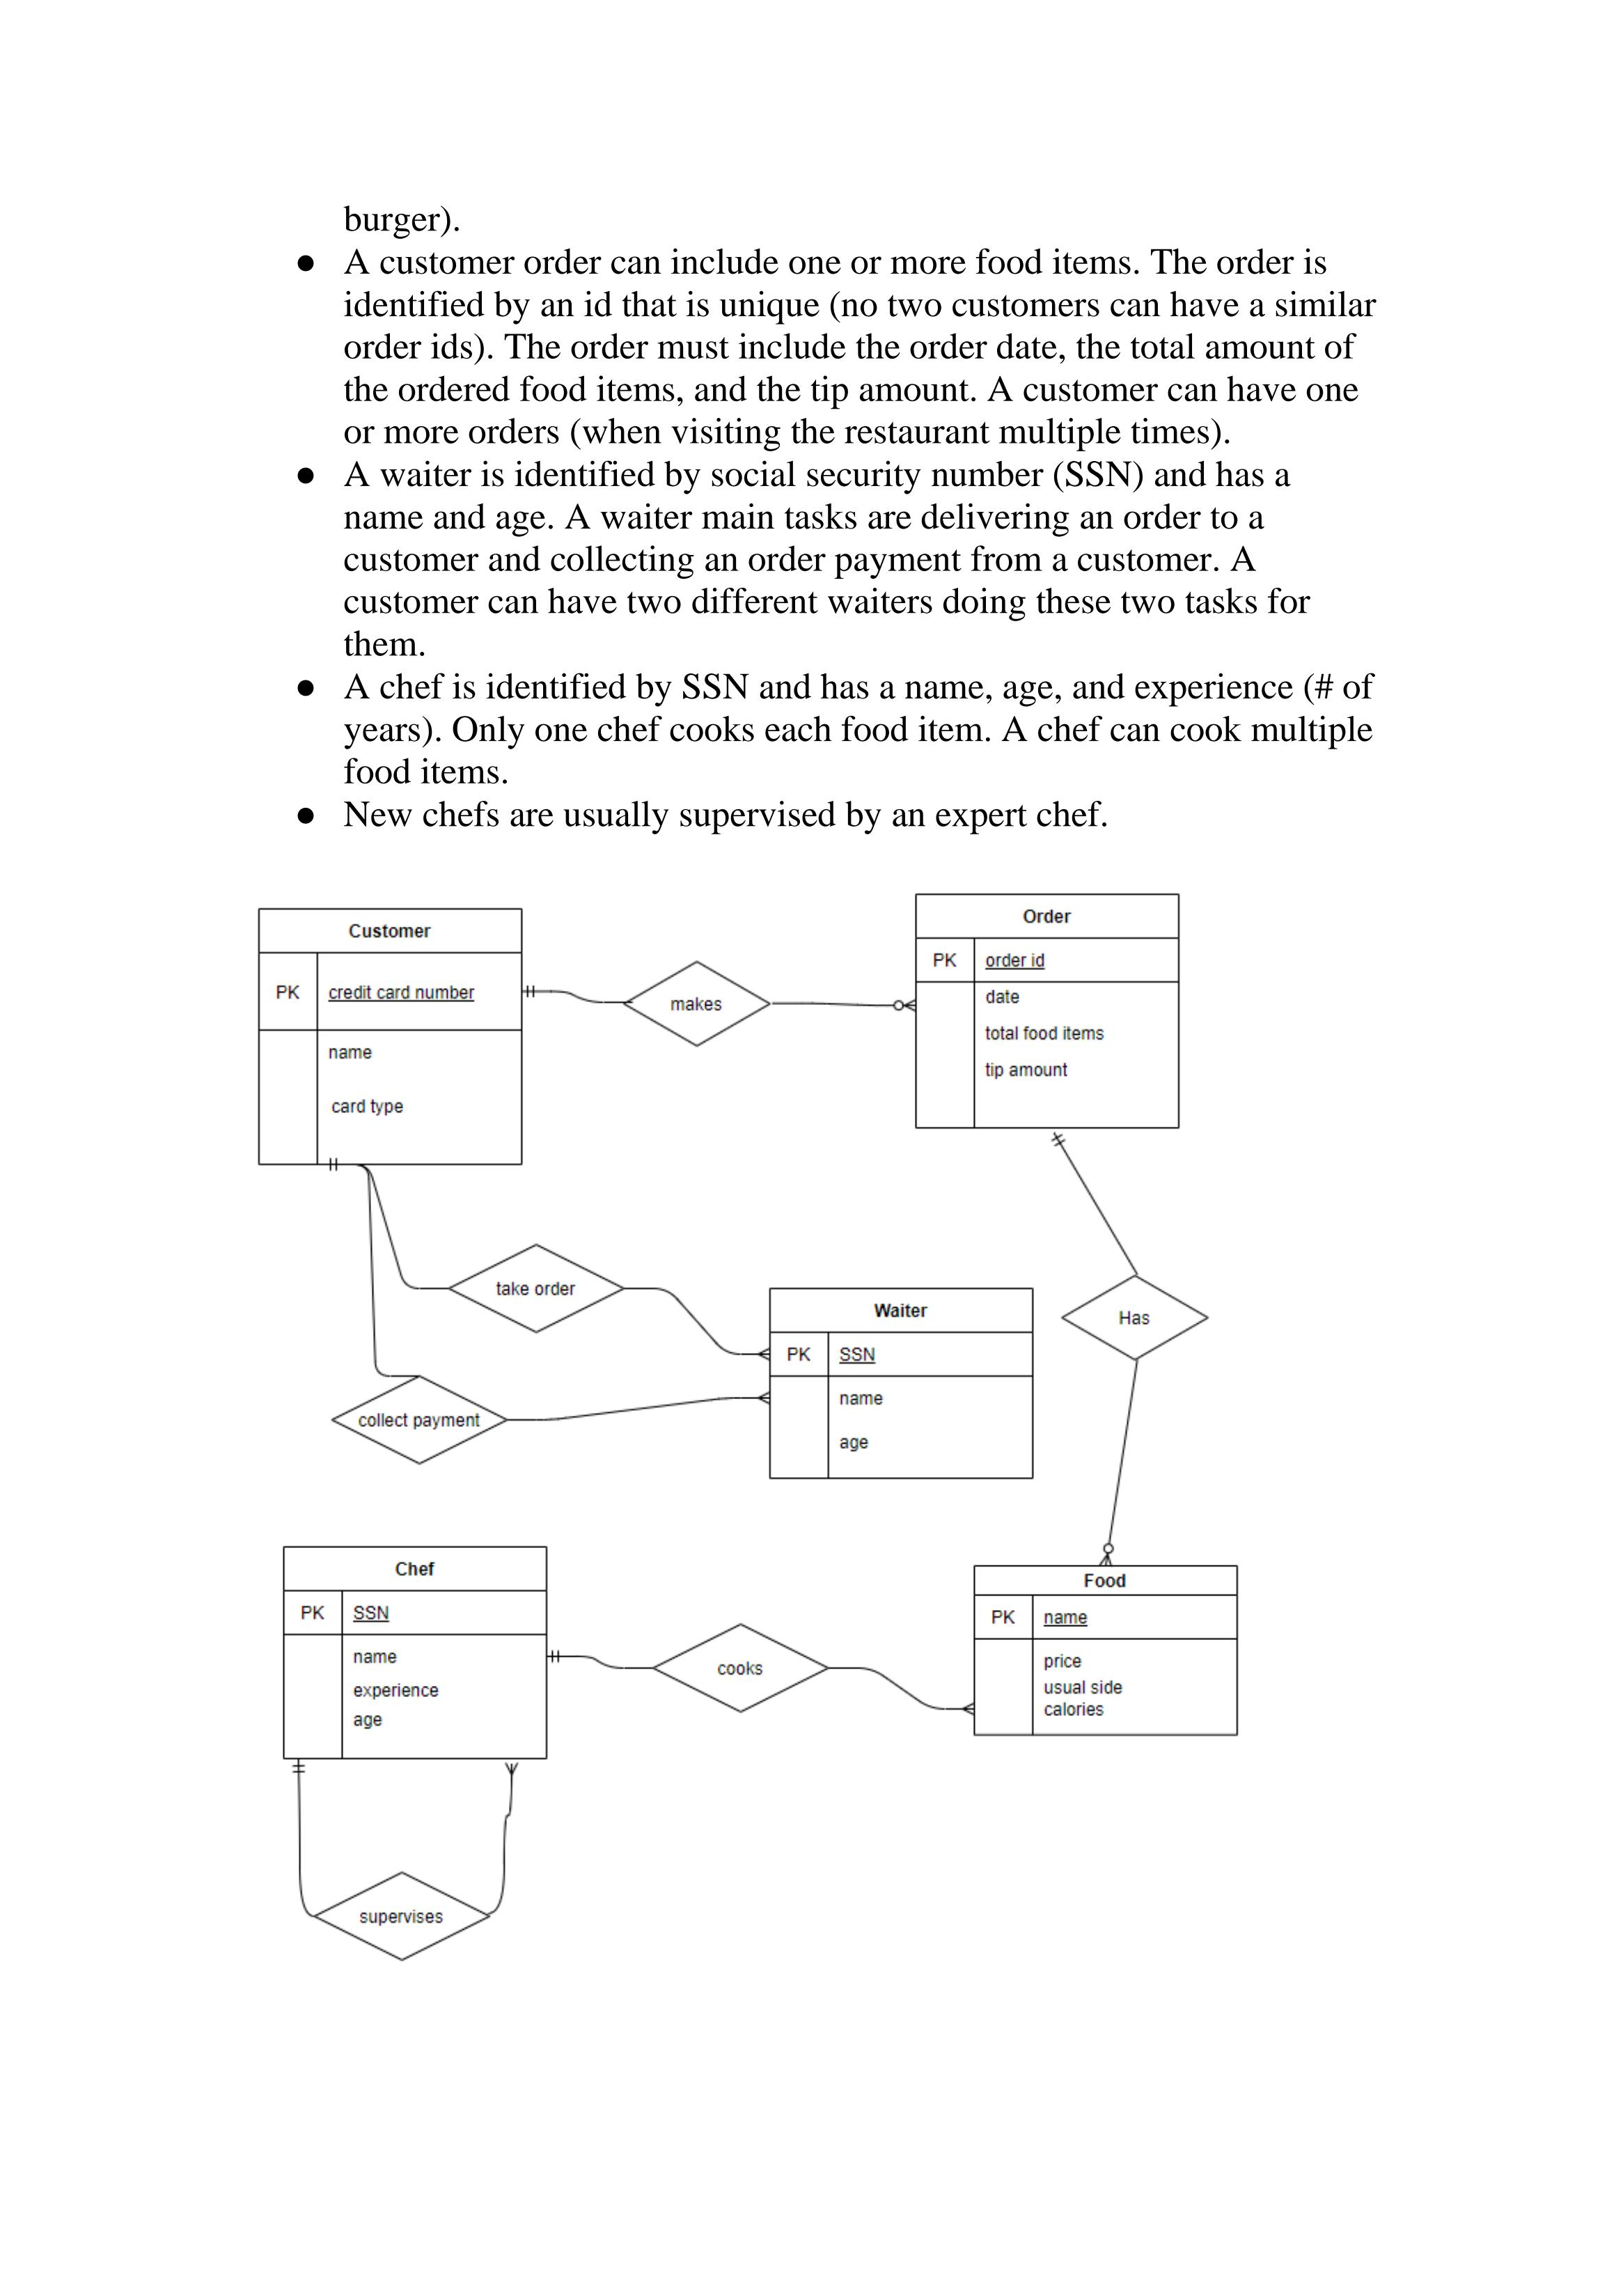Entity: (249, 905, 527, 1172), (908, 891, 1184, 1133), (276, 1541, 552, 1767), (761, 1282, 1042, 1486), (968, 1562, 1242, 1741)
Relationship: (650, 1620, 833, 1720), (444, 1240, 629, 1339), (307, 1869, 495, 1964), (328, 1374, 513, 1465), (622, 956, 776, 1052), (1061, 1274, 1214, 1363)
